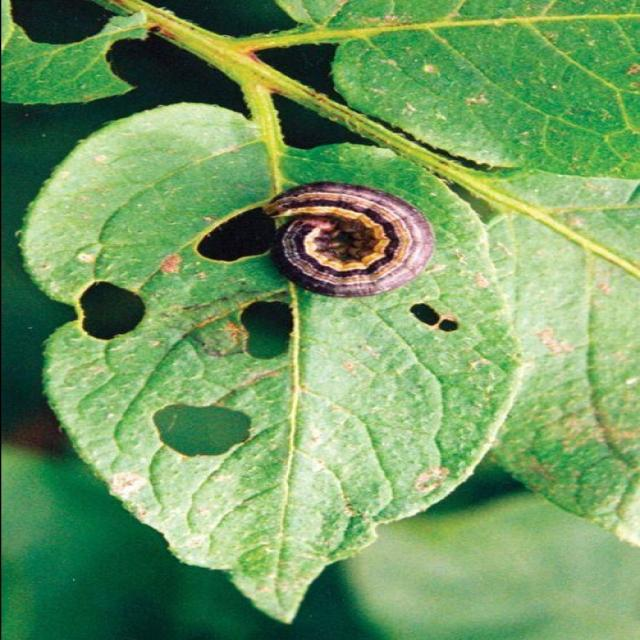army worm: (268, 182, 438, 301)
